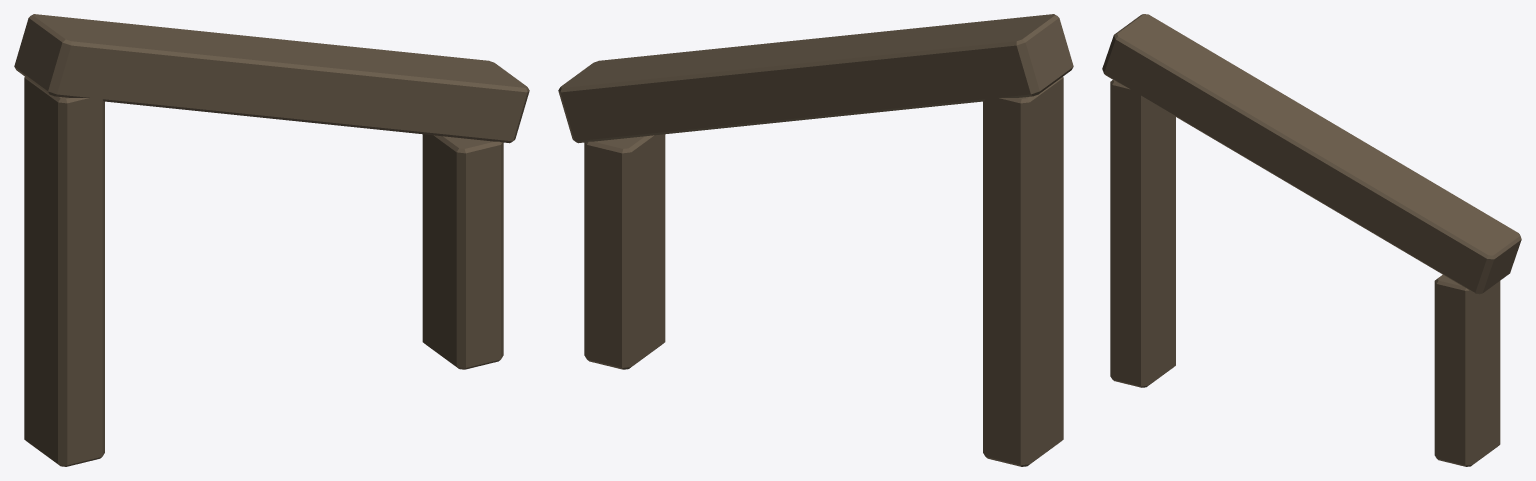
Rendered from support-broken.glb.
3 views of the same model, side by side, from view 1: azimuth 30°, elevation 25°; view 2: azimuth 150°, elevation 25°; view 3: azimuth 330°, elevation 25° (orthographic). The views are drawn at different scales.
Visible parts, largest first — view 1: support-broken__body; view 2: support-broken__body; view 3: support-broken__body.
Boxes of the visible parts, <box> form: support-broken__body: <box>14,14,529,466</box>; support-broken__body: <box>558,14,1073,466</box>; support-broken__body: <box>1102,14,1521,466</box>.
Bounding box in the file's own units: 2.05 × 1.74 × 0.3.
